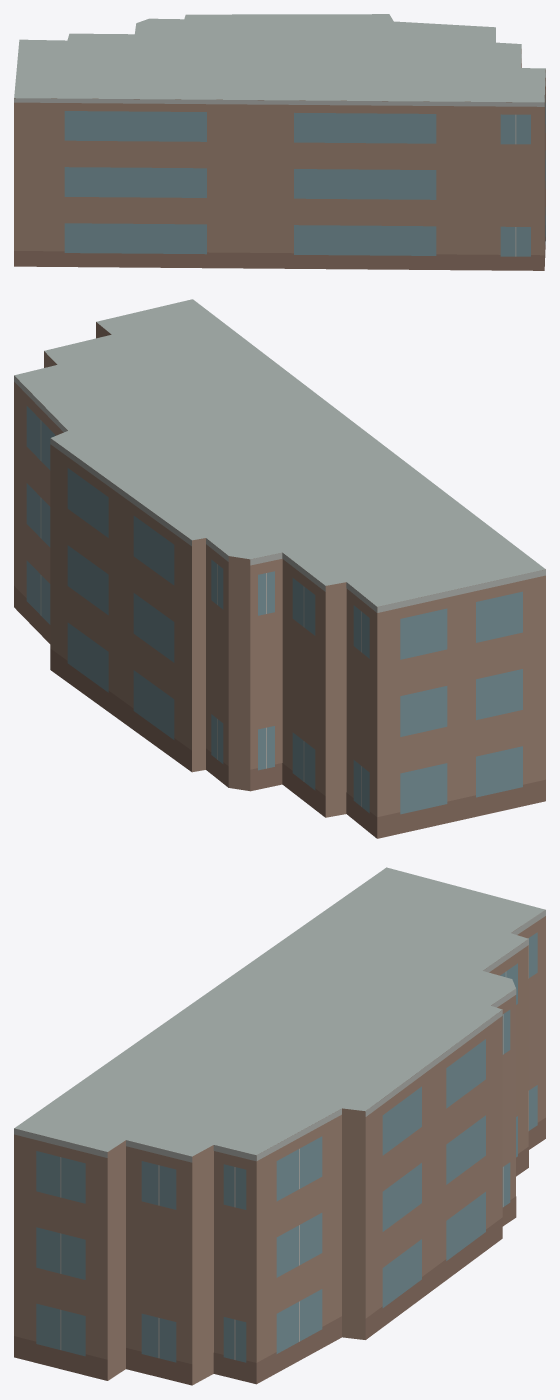
Rendered from survey-upis-32956398.glb.
The picture shows the model from 3 angles, top to bottom: view 1: azimuth 30°, elevation 25°; view 2: azimuth 150°, elevation 25°; view 3: azimuth 270°, elevation 25°; orthographic projection. The views are drawn at different scales.
Parts seen in each view (by area): view 1: survey-upis-32956398.tmp; view 2: survey-upis-32956398.tmp; view 3: survey-upis-32956398.tmp.
Boxes of the visible parts, <box> form: survey-upis-32956398.tmp: <box>14,14,545,270</box>; survey-upis-32956398.tmp: <box>14,299,545,838</box>; survey-upis-32956398.tmp: <box>14,867,545,1385</box>.
Bounding box in the file's own units: 24.8 × 9.15 × 19.27.
